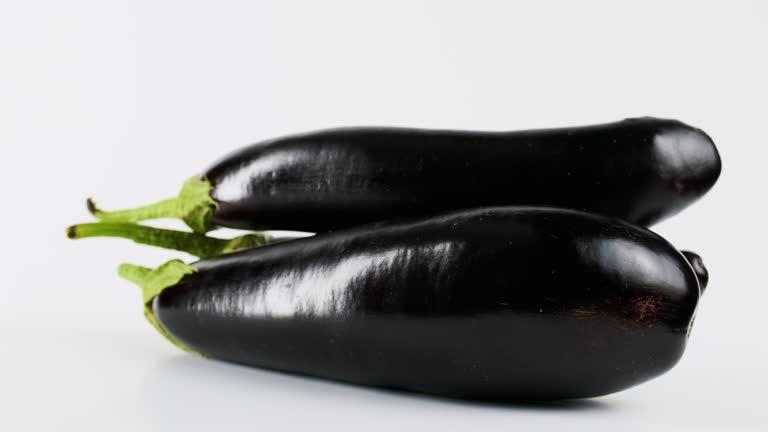Brinjal: (65, 122, 724, 395)
